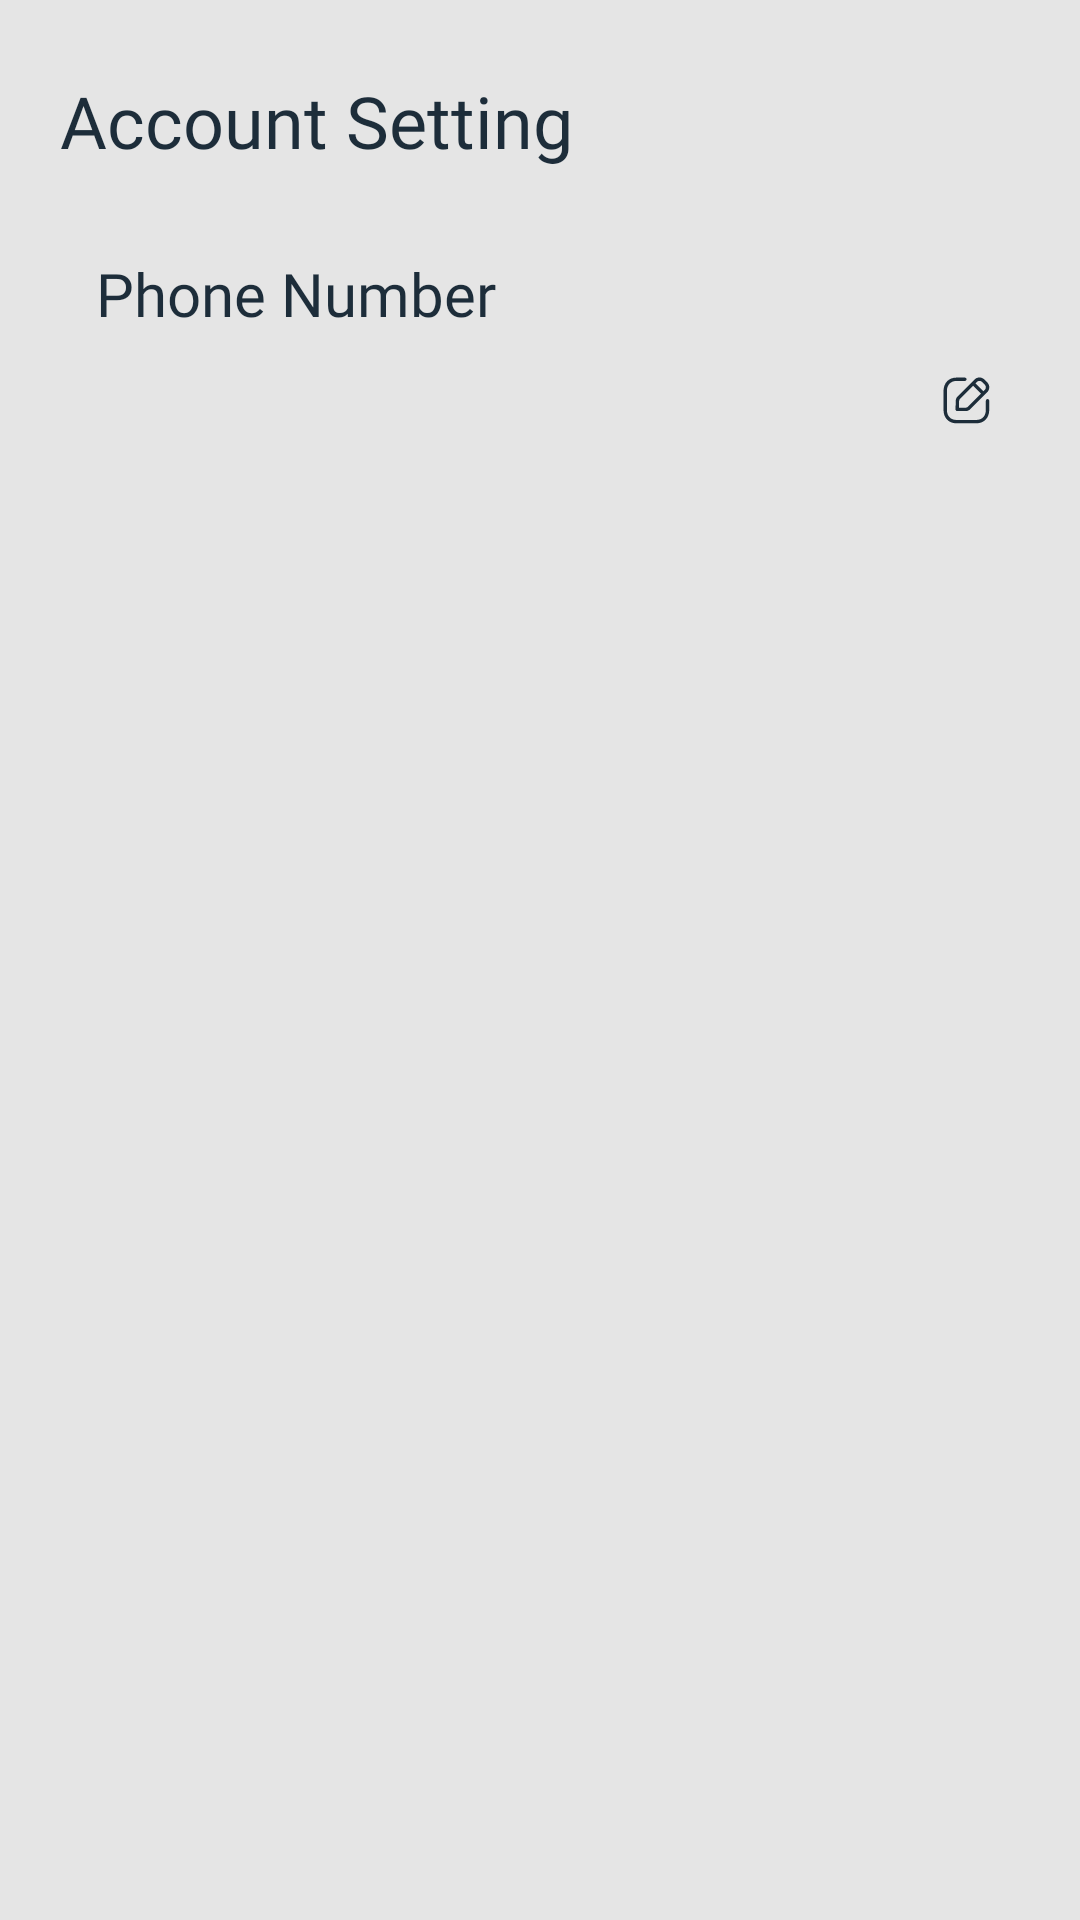

Icon click points for this 1080px x 1920px phone screenshot, format [x,y]:
edit square: [966,400]
